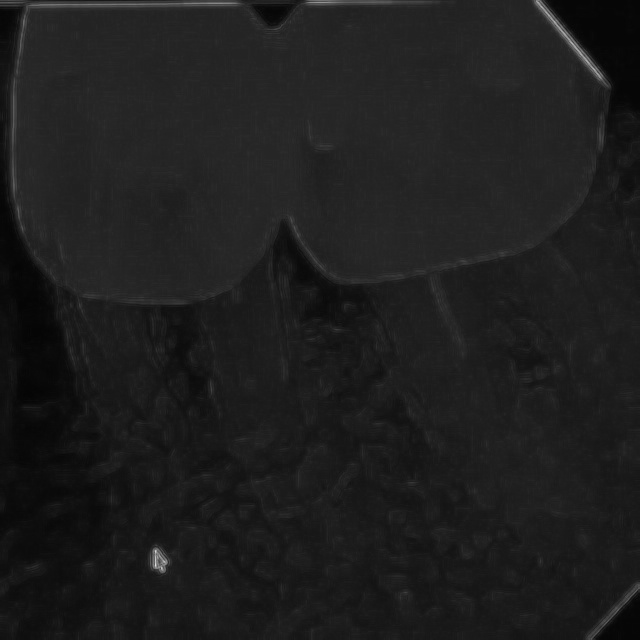Class 2- incomplete endodontic treatment: (283, 6, 640, 486), (0, 5, 308, 479)
